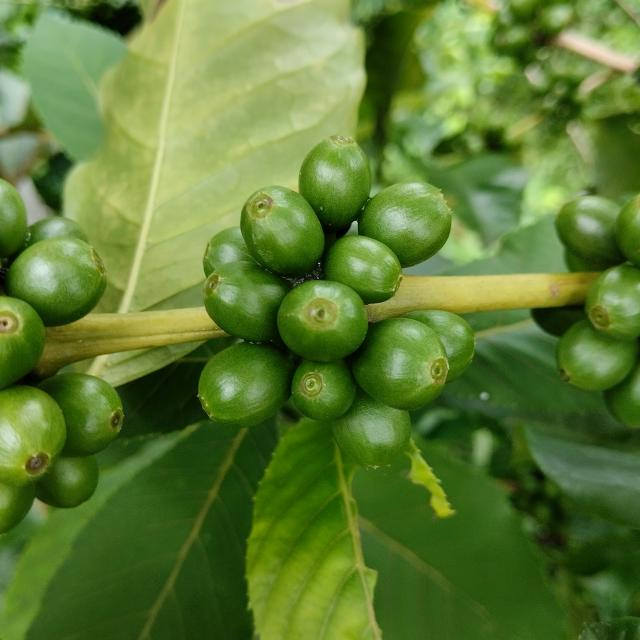green: (4, 236, 106, 327), (352, 318, 449, 411), (198, 342, 295, 428), (358, 181, 452, 268), (240, 185, 325, 277), (277, 280, 368, 363), (37, 373, 123, 457), (203, 261, 292, 342), (299, 135, 372, 231), (0, 386, 65, 487), (332, 386, 411, 468), (557, 319, 639, 391), (323, 235, 403, 304), (401, 310, 475, 382), (556, 195, 626, 266), (0, 296, 45, 389), (586, 265, 640, 340), (291, 360, 356, 421), (35, 456, 98, 509), (202, 227, 255, 277), (606, 362, 640, 427), (0, 178, 26, 257), (25, 216, 87, 246), (0, 483, 34, 535), (617, 194, 640, 268), (532, 306, 586, 337), (565, 248, 613, 272)
